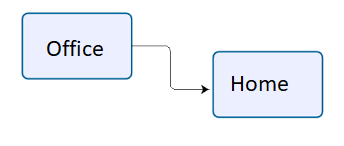arrow: (131, 43, 211, 96)
process: (19, 9, 135, 81), (210, 49, 325, 120)
text: (46, 38, 106, 57), (230, 74, 289, 92)
